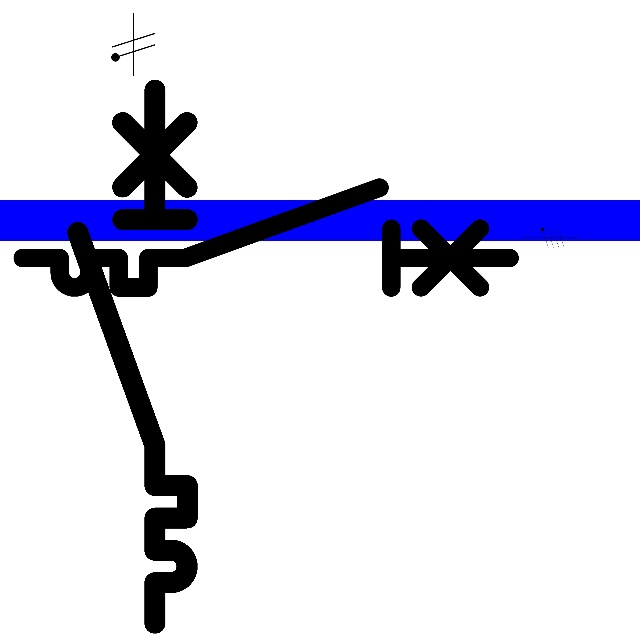interruptor_termomagnetico: (64, 76, 201, 637), (10, 175, 522, 300)
